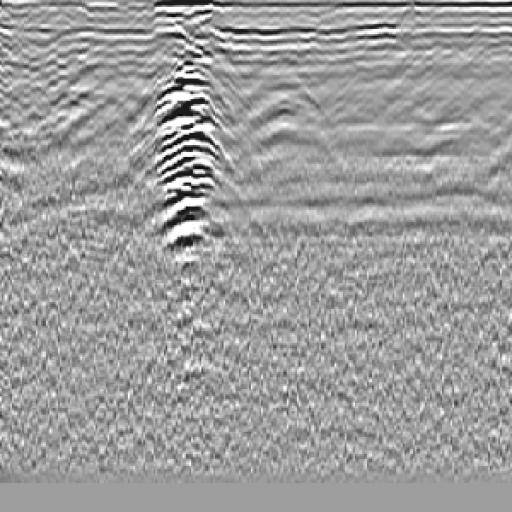metalic: (135, 29, 240, 321)
nonmetalic: (226, 73, 353, 181)
